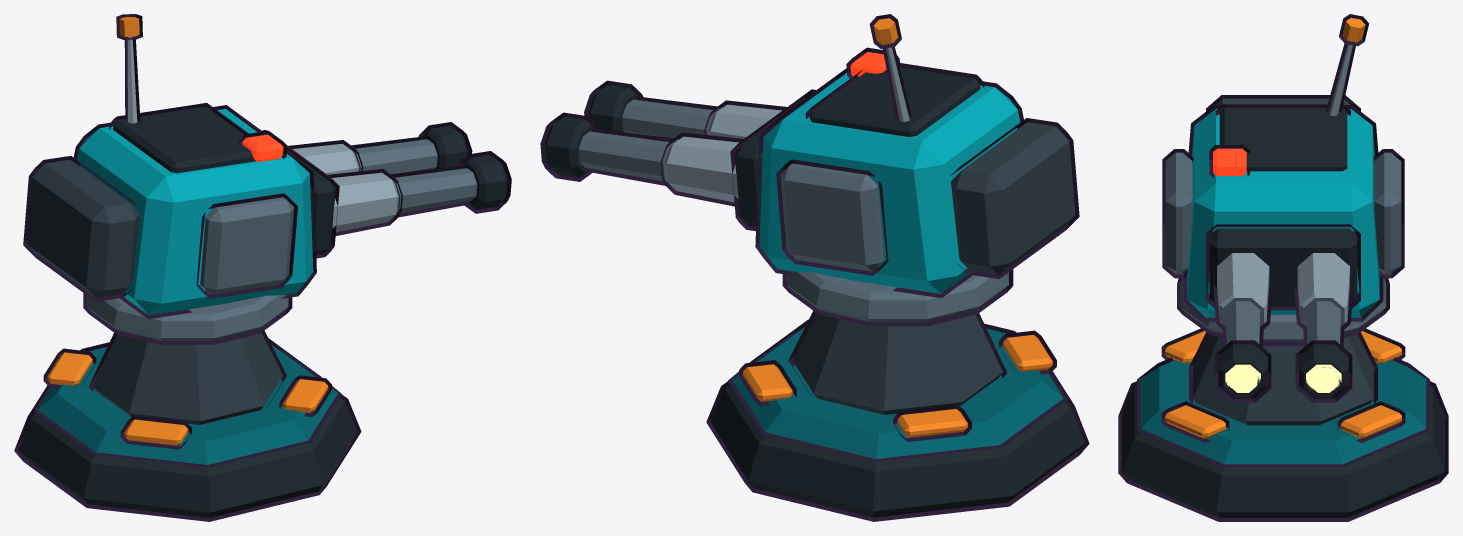
Rendered from Turret.glb.
3 views of the same model, side by side, from view 1: azimuth 30°, elevation 25°; view 2: azimuth 150°, elevation 25°; view 3: azimuth 270°, elevation 25° (orthographic). The views are drawn at different scales.
Parts seen in each view (by area): view 1: Turret_GAME_Head, Turret_GAME_Base; view 2: Turret_GAME_Head, Turret_GAME_Base; view 3: Turret_GAME_Head, Turret_GAME_Base.
Boxes of the visible parts, bbox=[...] form: Turret_GAME_Head: bbox=[23, 14, 511, 319]; Turret_GAME_Base: bbox=[14, 293, 361, 521]; Turret_GAME_Head: bbox=[540, 14, 1079, 298]; Turret_GAME_Base: bbox=[706, 269, 1089, 521]; Turret_GAME_Head: bbox=[1162, 14, 1404, 402]; Turret_GAME_Base: bbox=[1118, 278, 1448, 521].
Bounding box in the file's own units: 1.52 × 1.4 × 0.9816.
